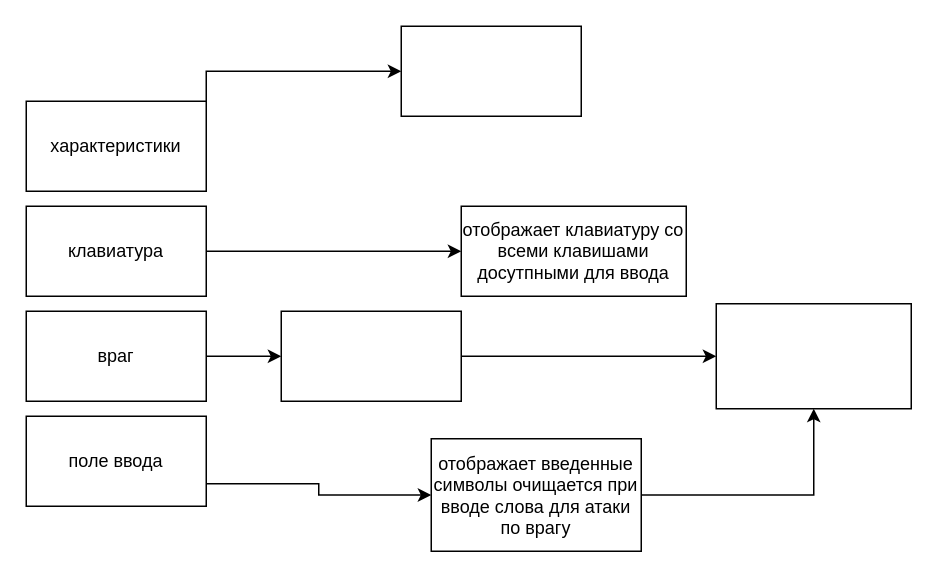
Some shapes in this 938 by 578 pixel diagram are drawn without their labels. Here are the shapes that lost their labels. From the top down, the centre of each, then its label:
At [490,70]: "увеличиваются при победе над врагами".
At [370,355]: "появляются на краю экрана и двигаются в сторону игрока".
At [813,355]: "при атаке по врагу пропадает один враг с введенным словом".
